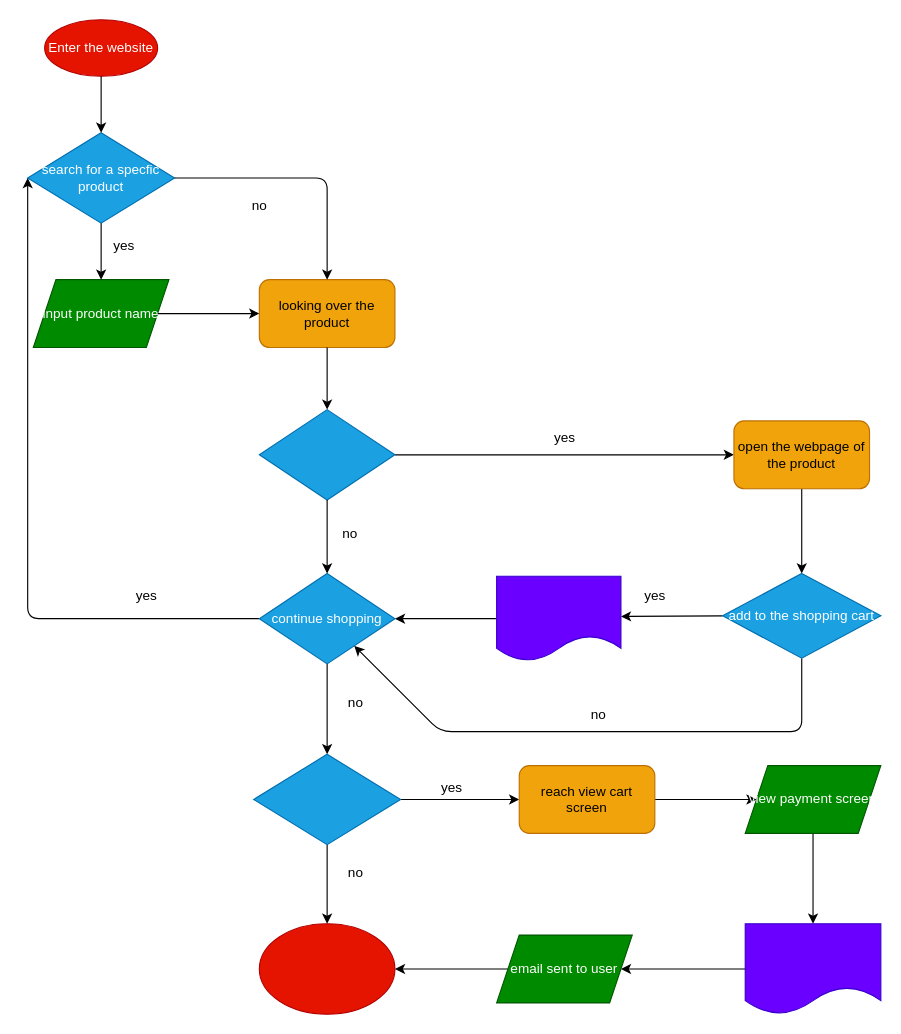
The diagram is 901 pixels wide and 1034 high, and some of its shapes have lost their labels. Each missing label, with the centre of its shape:
added to cart confirmation: pixel 558 618
check out: pixel 327 799
leave the website: pixel 326 968
order confirmation: pixel 812 968
view a specific product: pixel 326 454
